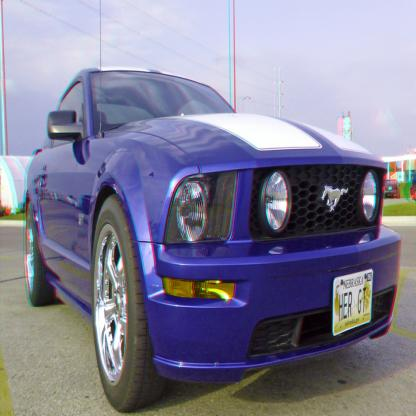Car: (25, 64, 404, 416), (384, 179, 401, 197), (411, 175, 416, 202)
